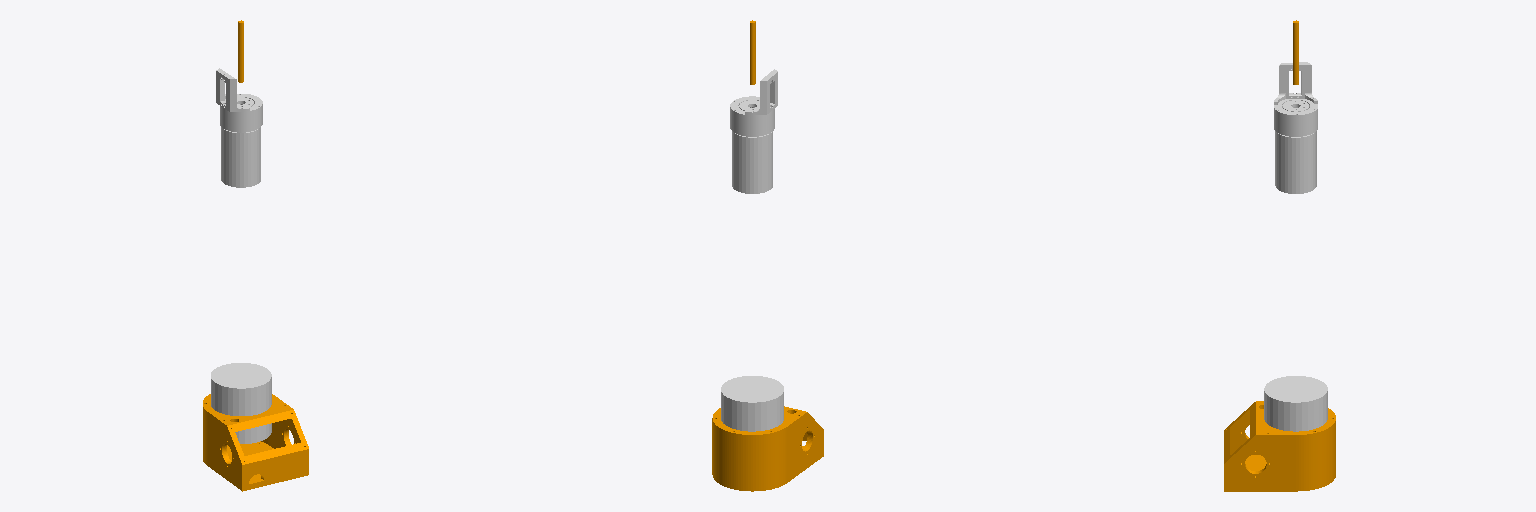
robot.urdf — NIXUS:
<?xml version="1.0" ?>
<!-- =================================================================================== -->
<!-- |    This document was autogenerated by xacro from nixus_v2.xacro                 | -->
<!-- |    EDITING THIS FILE BY HAND IS NOT RECOMMENDED                                 | -->
<!-- =================================================================================== -->
<robot name="NIXUS">
  <!--+++++++++++++++++++++++++++++++++++++++++++++++++++++++++++++++++++++++++++++++++++++++++++++++++++++++++++++-->
  <link name="base_link">
    <visual>
      <origin rpy="0 0 0" xyz="0 0 0"/>
      <geometry>
        <mesh filename="package://nixus/meshes/NIXUS_base.stl" scale="0.001 0.001 0.001"/>
      </geometry>
      <material name="1 0.65 0.0 0.9">
        <color rgba="1 0.65 0.0 0.9"/>
      </material>
    </visual>
    <collision>
      <geometry>
        <mesh filename="package://nixus/meshes/NIXUS_base.stl" scale="0.001 0.001 0.001"/>
      </geometry>
    </collision>
    <inertial>
      <mass value="10000000"/>
      <inertia ixx="10.0" ixy="0.50" ixz="0.50" iyy="10.0" iyz="0.50" izz="10.0"/>
    </inertial>
  </link>
  <joint name="base_joint" type="revolute">
    <parent link="base_link"/>
    <child link="shoulder_link"/>
    <limit effort="1000.0" lower="-1.5707963267948966" upper="1.5707963267948966" velocity="1"/>
    <dynamics damping="0.0" friction="1000"/>
    <origin rpy="0 0 0" xyz="0 0 0.1"/>
    <axis xyz="0 0 1"/>
  </joint>
  <link name="shoulder_link">
    <visual>
      <origin rpy="0 0 0" xyz="0 0 0"/>
      <geometry>
        <cylinder length="0.1025" radius="0.05125"/>
      </geometry>
      <material name="0.9 0.9 0.9 0.9">
        <color rgba="0.9 0.9 0.9 0.9"/>
      </material>
    </visual>
    <collision>
      <geometry>
        <cylinder length="0.1025" radius="0.05125"/>
      </geometry>
    </collision>
    <inertial>
      <mass value="1"/>
      <inertia ixx="10.0" ixy="0.50" ixz="0.50" iyy="10.0" iyz="0.50" izz="10.0"/>
    </inertial>
  </link>
  <joint name="shoulder_joint" type="revolute">
    <parent link="shoulder_link"/>
    <child link="humerus_link"/>
    <limit effort="1000.0" lower="0" upper="1.5707963267948966" velocity="1"/>
    <dynamics damping="0.0" friction="1000"/>
    <origin rpy="0 -1.5707963267948966 0" xyz="0 0 0.1"/>
    <axis xyz="0 0 1"/>
  </joint>
  <link name="humerus_link">
    <visual>
      <origin rpy="0 0 0" xyz="0 0 0"/>
      <geometry>
        <mesh filename="package://nixus/meshes/NIXUS_humerus.stl" scale="0.001 0.001 0.001"/>
      </geometry>
      <material name="0.9 0.9 0.9 0.9">
        <color rgba="0.9 0.9 0.9 0.9"/>
      </material>
    </visual>
    <collision>
      <geometry>
        <mesh filename="package://nixus/meshes/NIXUS_humerus.stl" scale="0.001 0.001 0.001"/>
      </geometry>
    </collision>
    <inertial>
      <mass value="1"/>
      <inertia ixx="10.0" ixy="0.50" ixz="0.50" iyy="10.0" iyz="0.50" izz="10.0"/>
    </inertial>
  </link>
  <joint name="elbow_joint" type="revolute">
    <parent link="humerus_link"/>
    <child link="ulna_link"/>
    <limit effort="1000.0" lower="-2.356194490192345" upper="2.356194490192345" velocity="1"/>
    <dynamics damping="0.0" friction="1000"/>
    <origin rpy="0 0 0" xyz="0.3125 0 0"/>
    <axis xyz="0 0 1"/>
  </joint>
  <link name="ulna_link">
    <visual>
      <origin rpy="0 1.5707963267948966 0" xyz="0.05 0 0"/>
      <geometry>
        <cylinder length="0.1" radius="0.03333333333333333"/>
      </geometry>
      <material name="0.9 0.9 0.9 0.9">
        <color rgba="0.9 0.9 0.9 0.9"/>
      </material>
    </visual>
    <collision>
      <geometry>
        <cylinder length="0.1" radius="0.03333333333333333"/>
      </geometry>
    </collision>
    <inertial>
      <mass value="1"/>
      <inertia ixx="10.0" ixy="0.50" ixz="0.50" iyy="10.0" iyz="0.50" izz="10.0"/>
    </inertial>
  </link>
  <joint name="wrist_joint" type="continuous">
    <parent link="ulna_link"/>
    <child link="wrist_link"/>
    <limit effort="1000.0" lower="-1000" upper="1000" velocity="1"/>
    <dynamics damping="0.0" friction="1000"/>
    <origin rpy="0 1.5707963267948966 0" xyz="0.1 0 0"/>
    <axis xyz="0 0 1"/>
  </joint>
  <link name="wrist_link">
    <visual>
      <origin rpy="0 0 -0.5235987755982988" xyz="0 0 0"/>
      <geometry>
        <mesh filename="package://nixus/meshes/NIXUS_wrist.stl" scale="0.001 0.001 0.001"/>
      </geometry>
      <material name="0.9 0.9 0.9 0.9">
        <color rgba="0.9 0.9 0.9 0.9"/>
      </material>
    </visual>
    <collision>
      <geometry>
        <mesh filename="package://nixus/meshes/NIXUS_wrist.stl" scale="0.001 0.001 0.001"/>
      </geometry>
    </collision>
    <inertial>
      <mass value="1"/>
      <inertia ixx="10.0" ixy="0.50" ixz="0.50" iyy="10.0" iyz="0.50" izz="10.0"/>
    </inertial>
  </link>
  <joint name="end_joint" type="revolute">
    <parent link="wrist_link"/>
    <child link="end_link"/>
    <limit effort="1000.0" lower="-1.5707963267948966" upper="1.5707963267948966" velocity="1"/>
    <dynamics damping="0.0" friction="1000"/>
    <origin rpy="0 0 0" xyz="0 0 0.08"/>
    <axis xyz="1 0 0"/>
  </joint>
  <link name="end_link">
    <visual>
      <origin rpy="0 0 0" xyz="0 0 0.055"/>
      <geometry>
        <cylinder length="0.11" radius="0.005"/>
      </geometry>
      <material name="1 0.65 0.0 0.9">
        <color rgba="1 0.65 0.0 0.9"/>
      </material>
    </visual>
    <collision>
      <geometry>
        <cylinder length="0.11" radius="0.005"/>
      </geometry>
    </collision>
    <inertial>
      <mass value="1"/>
      <inertia ixx="10.0" ixy="0.50" ixz="0.50" iyy="10.0" iyz="0.50" izz="10.0"/>
    </inertial>
  </link>
  <!--
  <xacro:nixus_cylinder_link
  name="end_point" 
  radius="0.001" length="0.001" material="${white}"  
  mass="1" move_xyz="0 0 ${wrist_h}" rot_rpy="0 0 0"/>
  -->
  <!--+++++++++++++++++++++++++++++++++++++++++++++++++++++++++++++++++++++++++++++++++++++++++++++++++++++++++++++-->
  <plugin filename="libgazebo_ros_joint_state_publisher.so" name="gazebo_ros_joint_state_publisher">
    <ros>
      <!-- Add a namespace -->
      <namespace>/arm_joints</namespace>
    </ros>
    <!-- Update rate in Hertz -->
    <update_rate>20</update_rate>
    <!-- Name of joints in the model whose states will be published. -->
    <joint_name>base_joint</joint_name>
    <joint_name>shoulder_joint</joint_name>
    <joint_name>elbow_joint</joint_name>
    <joint_name>wrist_joint</joint_name>
    <joint_name>end_joint</joint_name>
  </plugin>
</robot>

--- What the picture shows (computed from the rendered views, not written in the file) ---
3 views of the same robot in one strip: view 1: azimuth 30°, elevation 25°; view 2: azimuth 150°, elevation 25°; view 3: azimuth 270°, elevation 25° (orthographic).
Robot: NIXUS — 6 links, 5 joints (4 revolute, 1 continuous); root link base_link; default pose: all joints at 0.
Visible links, largest first — view 1: base_link, shoulder_link, ulna_link, wrist_link; view 2: base_link, shoulder_link, ulna_link, wrist_link; view 3: base_link, shoulder_link, wrist_link, ulna_link.
Boxes of the visible links, x1,y1,x2,y2 form: base_link: [203, 394, 308, 491]; shoulder_link: [211, 363, 271, 443]; ulna_link: [221, 127, 260, 187]; wrist_link: [216, 68, 262, 132]; base_link: [712, 406, 823, 491]; shoulder_link: [721, 376, 783, 431]; ulna_link: [732, 131, 772, 193]; wrist_link: [730, 69, 777, 136]; base_link: [1224, 401, 1335, 491]; shoulder_link: [1264, 376, 1327, 431]; wrist_link: [1274, 62, 1317, 136]; ulna_link: [1275, 131, 1316, 193].
Bounding box of the posed robot: 0.129 × 0.1805 × 0.8025 m (x, y, z).
Meshes: 3 distinct files referenced, 2 mesh visuals loaded (2 binary STL); not drawn: 1 (reference not matched to a file when rendering).
